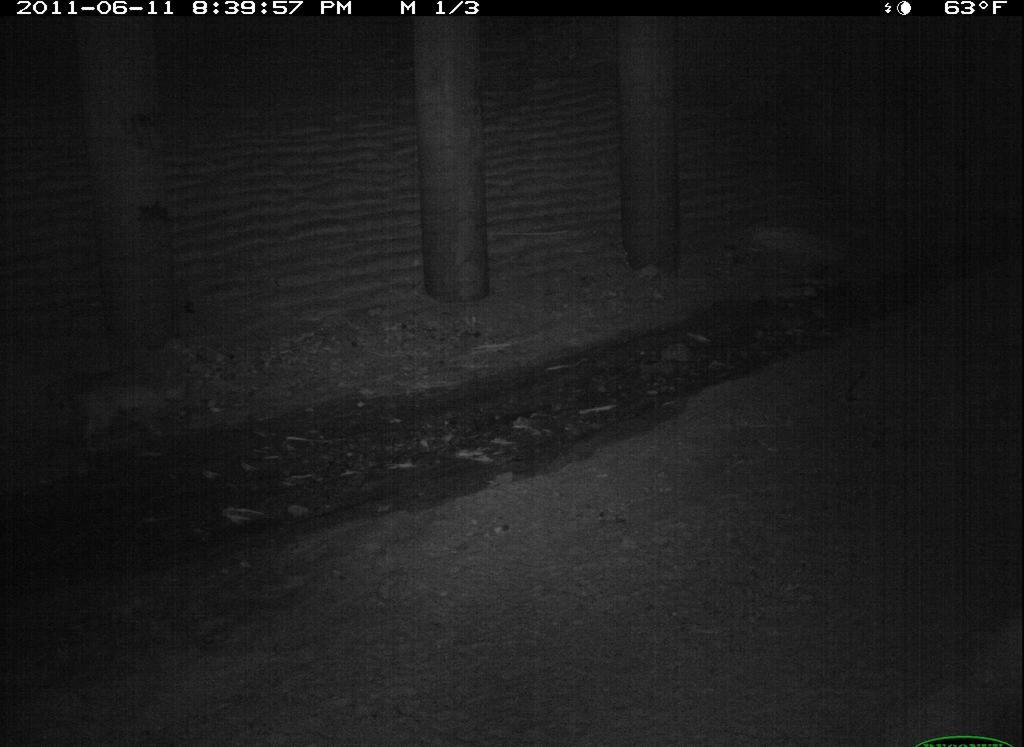bobcat: (147, 738, 393, 747)
